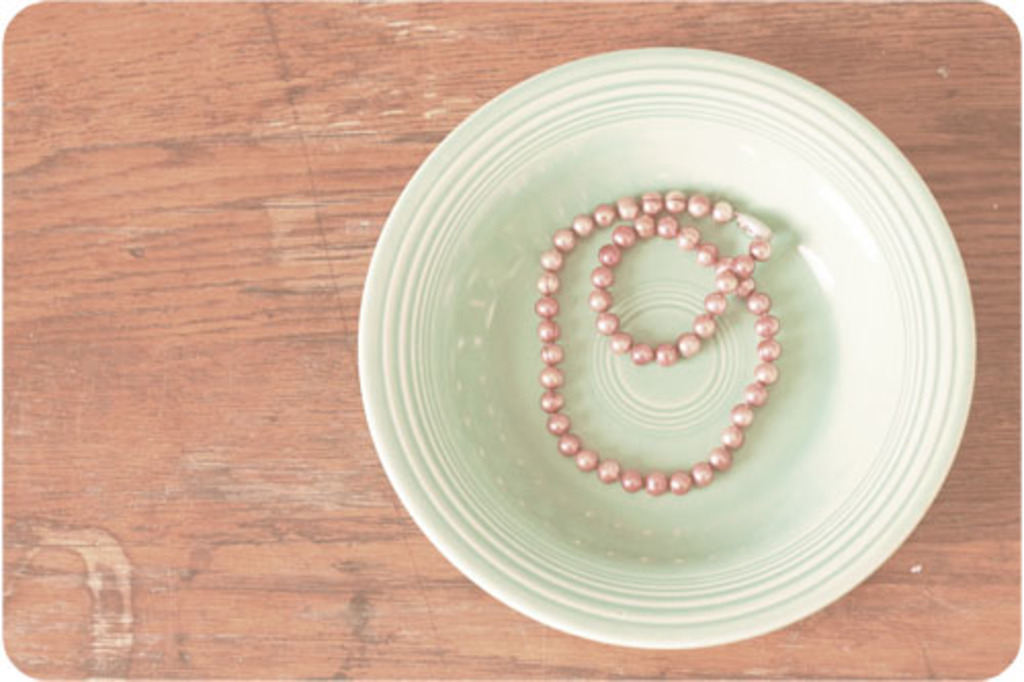plate: (357, 46, 977, 650)
